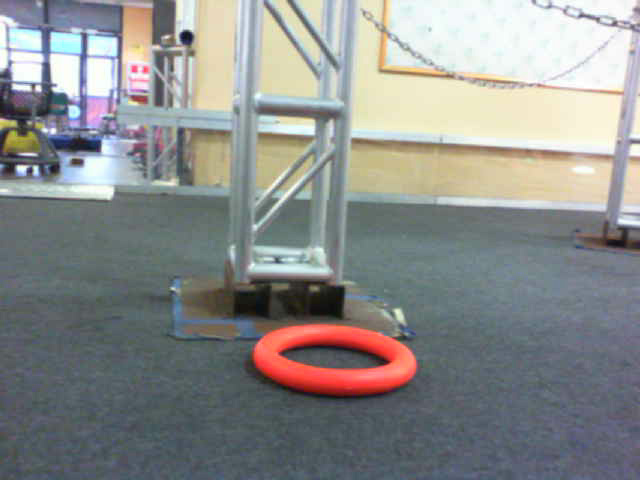Note: (254, 327, 424, 407)
